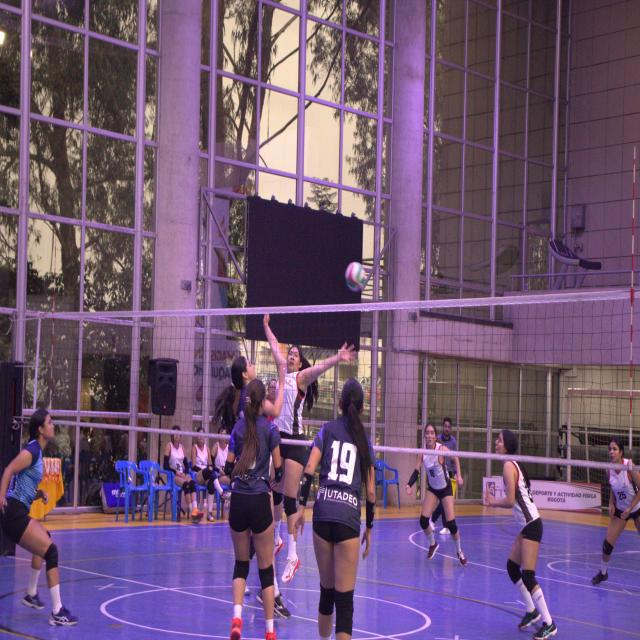volleyball: (345, 262, 365, 294)
